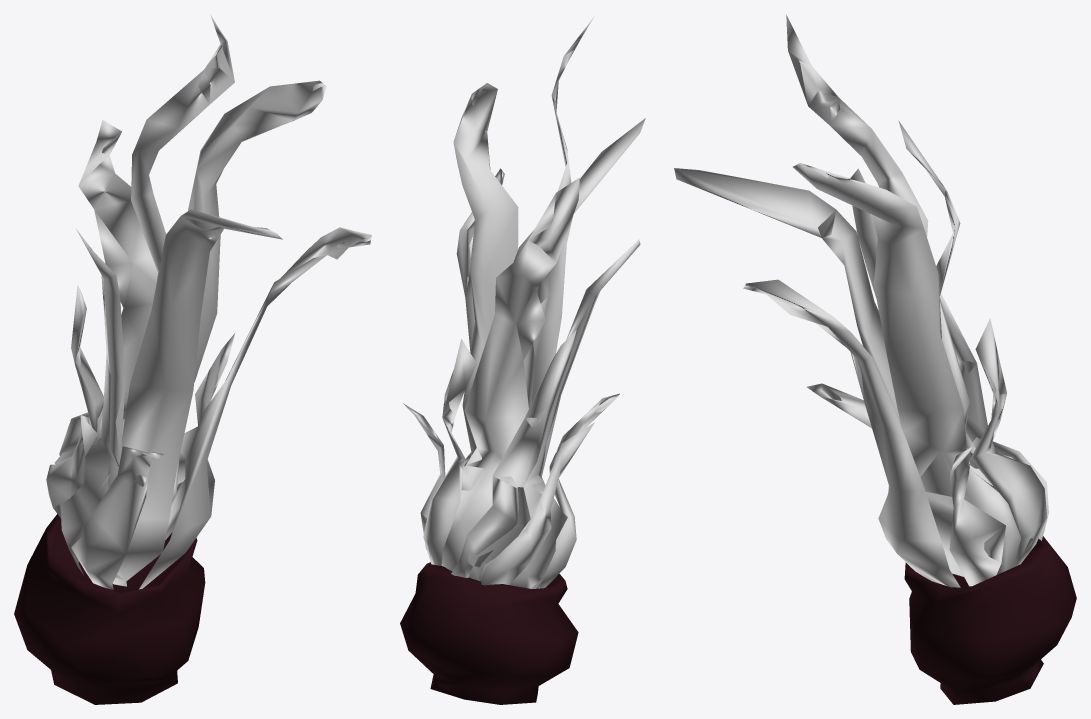
Rendered from knot1.fbx.
The picture shows the model from 3 angles, left to right: view 1: azimuth 30°, elevation 25°; view 2: azimuth 150°, elevation 25°; view 3: azimuth 270°, elevation 25°; orthographic projection. The views are drawn at different scales.
Parts seen in each view (by area): view 1: Plant jar; view 2: Plant jar; view 3: Plant jar.
Boxes of the visible parts, box(x1,y1,x2,y2) form: Plant jar: box(14, 14, 371, 704); Plant jar: box(400, 16, 645, 704); Plant jar: box(674, 14, 1076, 704).
Size of the model in its own units: 0.1123 by 0.349 by 0.1911.
